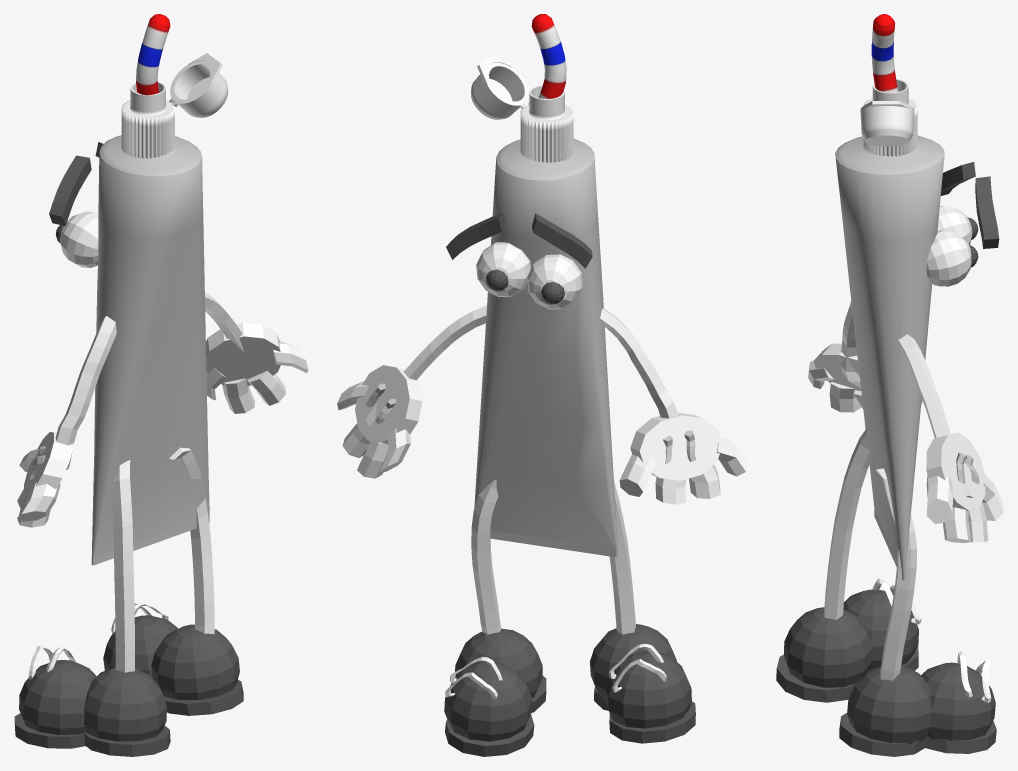
File: macunnn.fbx
The picture shows the model from 3 angles, left to right: view 1: azimuth 30°, elevation 25°; view 2: azimuth 150°, elevation 25°; view 3: azimuth 270°, elevation 25°; orthographic projection.
Parts seen in each view (by area): view 1: Loft01, group_1271726261, group_911610836, group_1092254099, Loft02, group_913153934, group_1081606240, group_1553115037, mesh_605939537, Loft03, group_656011443; view 2: Loft01, group_911610836, group_913153934, group_1271726261, group_1092254099, Loft02, group_1553115037, group_656011443, group_1081606240, mesh_605939537, mesh_2067250013, Loft03; view 3: Loft01, group_911610836, group_1271726261, group_1092254099, group_1081606240, Loft02, group_913153934, group_1553115037, mesh_2067250013, group_656011443, Loft03, mesh_605939537.
Boxes of the visible parts, box(x1,y1,x2,y2) form: Loft01: box(91, 135, 209, 565); group_1271726261: box(14, 646, 170, 756); group_911610836: box(103, 603, 243, 715); group_1092254099: box(205, 293, 308, 413); Loft02: box(121, 53, 228, 158); group_913153934: box(17, 316, 116, 527); group_1081606240: box(111, 460, 134, 672); group_1553115037: box(169, 447, 214, 634); mesh_605939537: box(59, 211, 98, 267); Loft03: box(136, 14, 170, 95); group_656011443: box(49, 142, 103, 225); Loft01: box(474, 138, 617, 557); group_911610836: box(444, 628, 546, 756); group_913153934: box(600, 308, 747, 504); group_1271726261: box(590, 624, 695, 743); group_1092254099: box(337, 305, 486, 478); Loft02: box(471, 54, 573, 162); group_1553115037: box(471, 479, 501, 634); group_656011443: box(446, 212, 592, 268); group_1081606240: box(609, 482, 635, 634); mesh_605939537: box(527, 254, 582, 309); mesh_2067250013: box(476, 242, 531, 296); Loft03: box(531, 14, 566, 98); Loft01: box(835, 135, 944, 580); group_911610836: box(839, 651, 996, 756); group_1271726261: box(776, 579, 921, 702); group_1092254099: box(898, 334, 1003, 542); group_1081606240: box(824, 429, 870, 620); Loft02: box(860, 78, 917, 156); group_913153934: box(808, 300, 922, 412); group_1553115037: box(876, 468, 916, 680); mesh_2067250013: box(926, 231, 971, 286); group_656011443: box(940, 162, 999, 248); Loft03: box(871, 14, 898, 92); mesh_605939537: box(937, 206, 972, 244).
Size of the model in its own units: 9.3 by 18.29 by 5.22.
